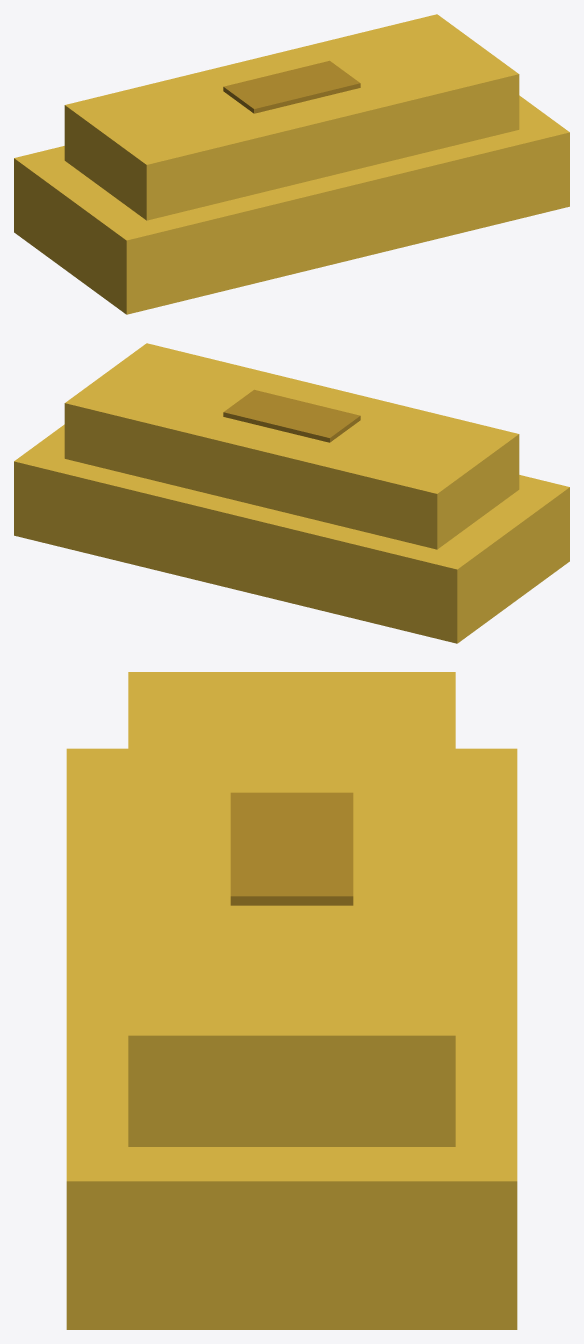
The model's file is gold_ingot.glb.
3 views of the same model, one above another, from view 1: azimuth 30°, elevation 25°; view 2: azimuth 150°, elevation 25°; view 3: azimuth 270°, elevation 25° (orthographic). The views are drawn at different scales.
Visible parts, largest first — view 1: bar_ingot_gold, stamp_ingot_stamp; view 2: bar_ingot_gold, stamp_ingot_stamp; view 3: bar_ingot_gold, stamp_ingot_stamp.
Part boxes in pixels (x1,y1,x2,y2): bar_ingot_gold: (14,14,569,314); stamp_ingot_stamp: (223,60,360,113); bar_ingot_gold: (14,343,569,643); stamp_ingot_stamp: (223,389,360,442); bar_ingot_gold: (66,672,517,1329); stamp_ingot_stamp: (230,792,353,905).
Size of the model in its own units: 0.25 by 0.0725 by 0.11.
